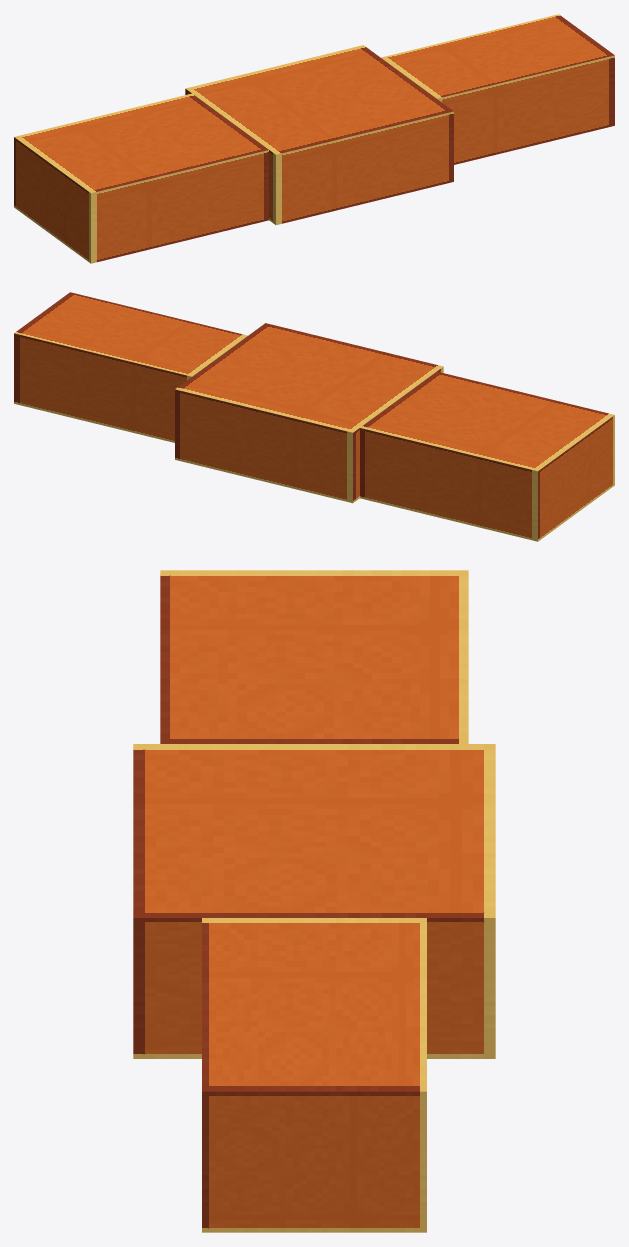
The model's file is bench_spear_0_hot.obj.
3 views of the same model, one above another, from view 1: azimuth 30°, elevation 25°; view 2: azimuth 150°, elevation 25°; view 3: azimuth 270°, elevation 25° (orthographic). The views are drawn at different scales.
Parts seen in each view (by area): view 1: geometry; view 2: geometry; view 3: geometry.
Boxes of the visible parts, x1,y1,x2,y2 form: geometry: [14, 14, 614, 263]; geometry: [14, 292, 614, 541]; geometry: [133, 570, 495, 1232].
Bounding box in the file's own units: 0.75 × 0.0945 × 0.2203.
